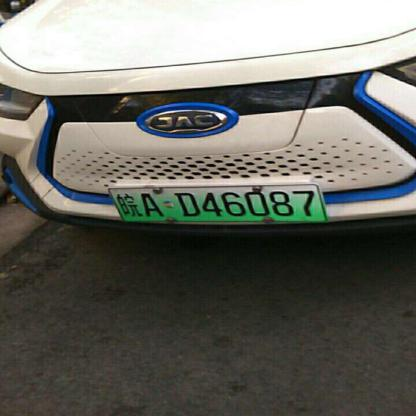lp: (107, 184, 325, 219)
